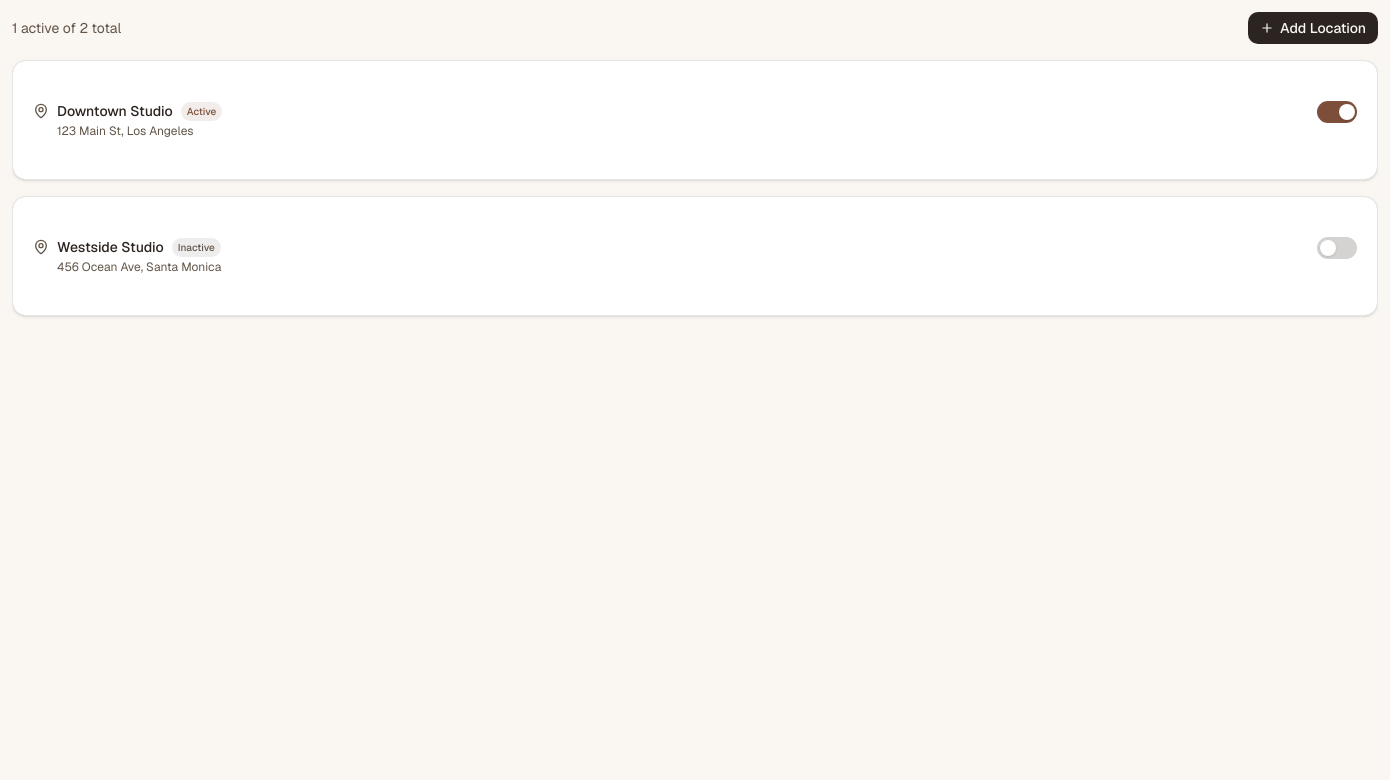
Test: LocationsTab › inline editing › expands edit form when location card is clicked
Step 1. Click the text "Downtown Studio" → (115, 111), box x1=57 y1=101 x2=173 y2=121
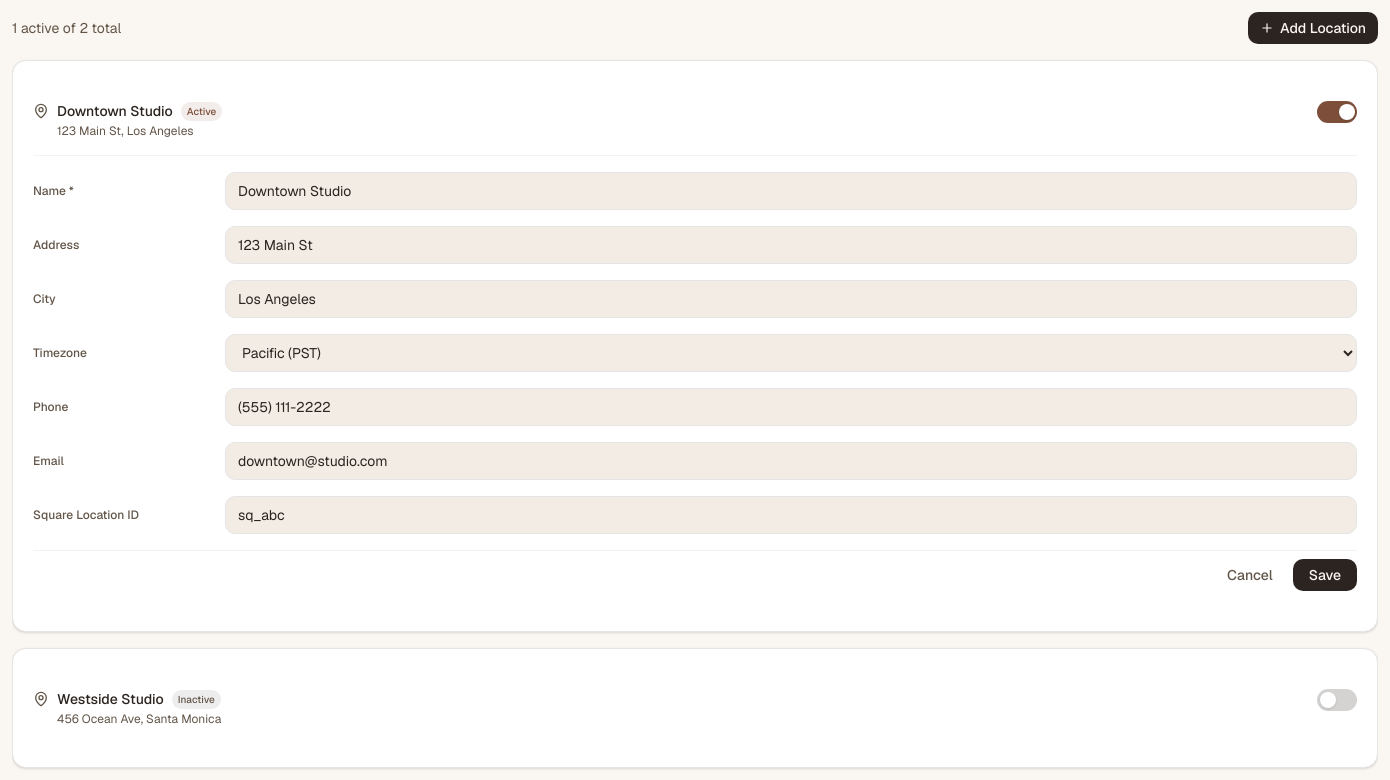
Expected: the button "Save" is shown, x1=1293 y1=559 x2=1357 y2=591
